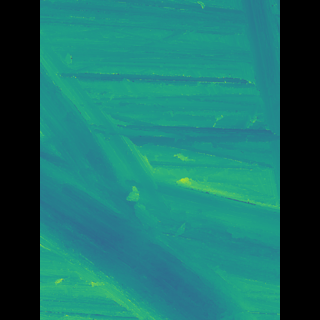Loch: (69, 32, 233, 320)
